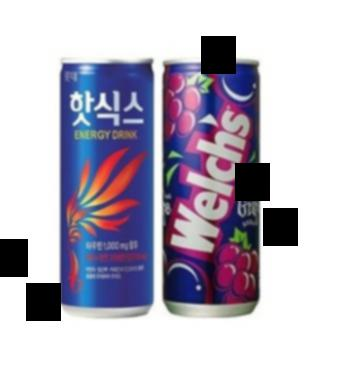hotsix_org: (56, 58, 157, 323)
